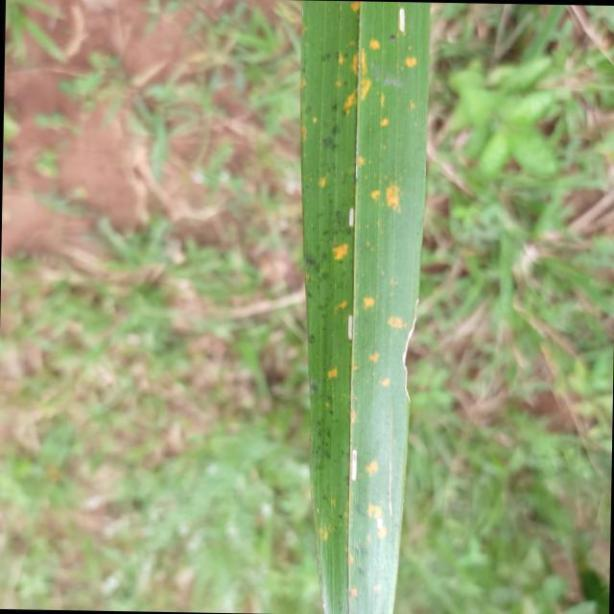Kalium: (298, 0, 434, 614)
